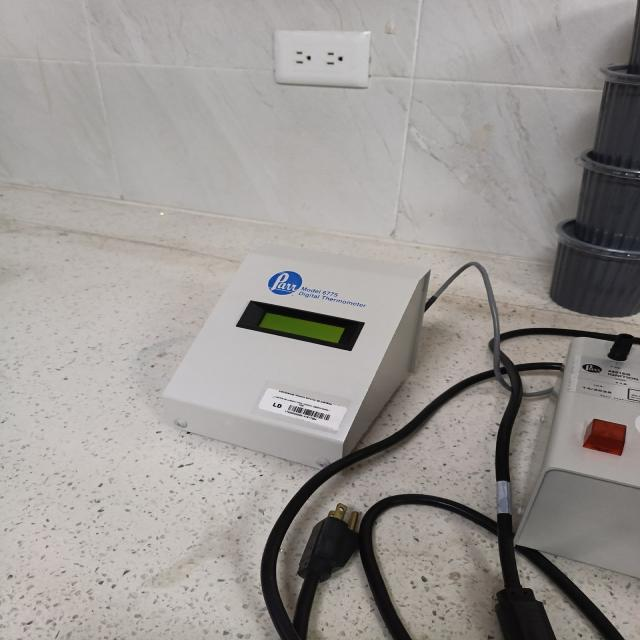Termometro Digital Parr Model 6775: (163, 246, 429, 466)
